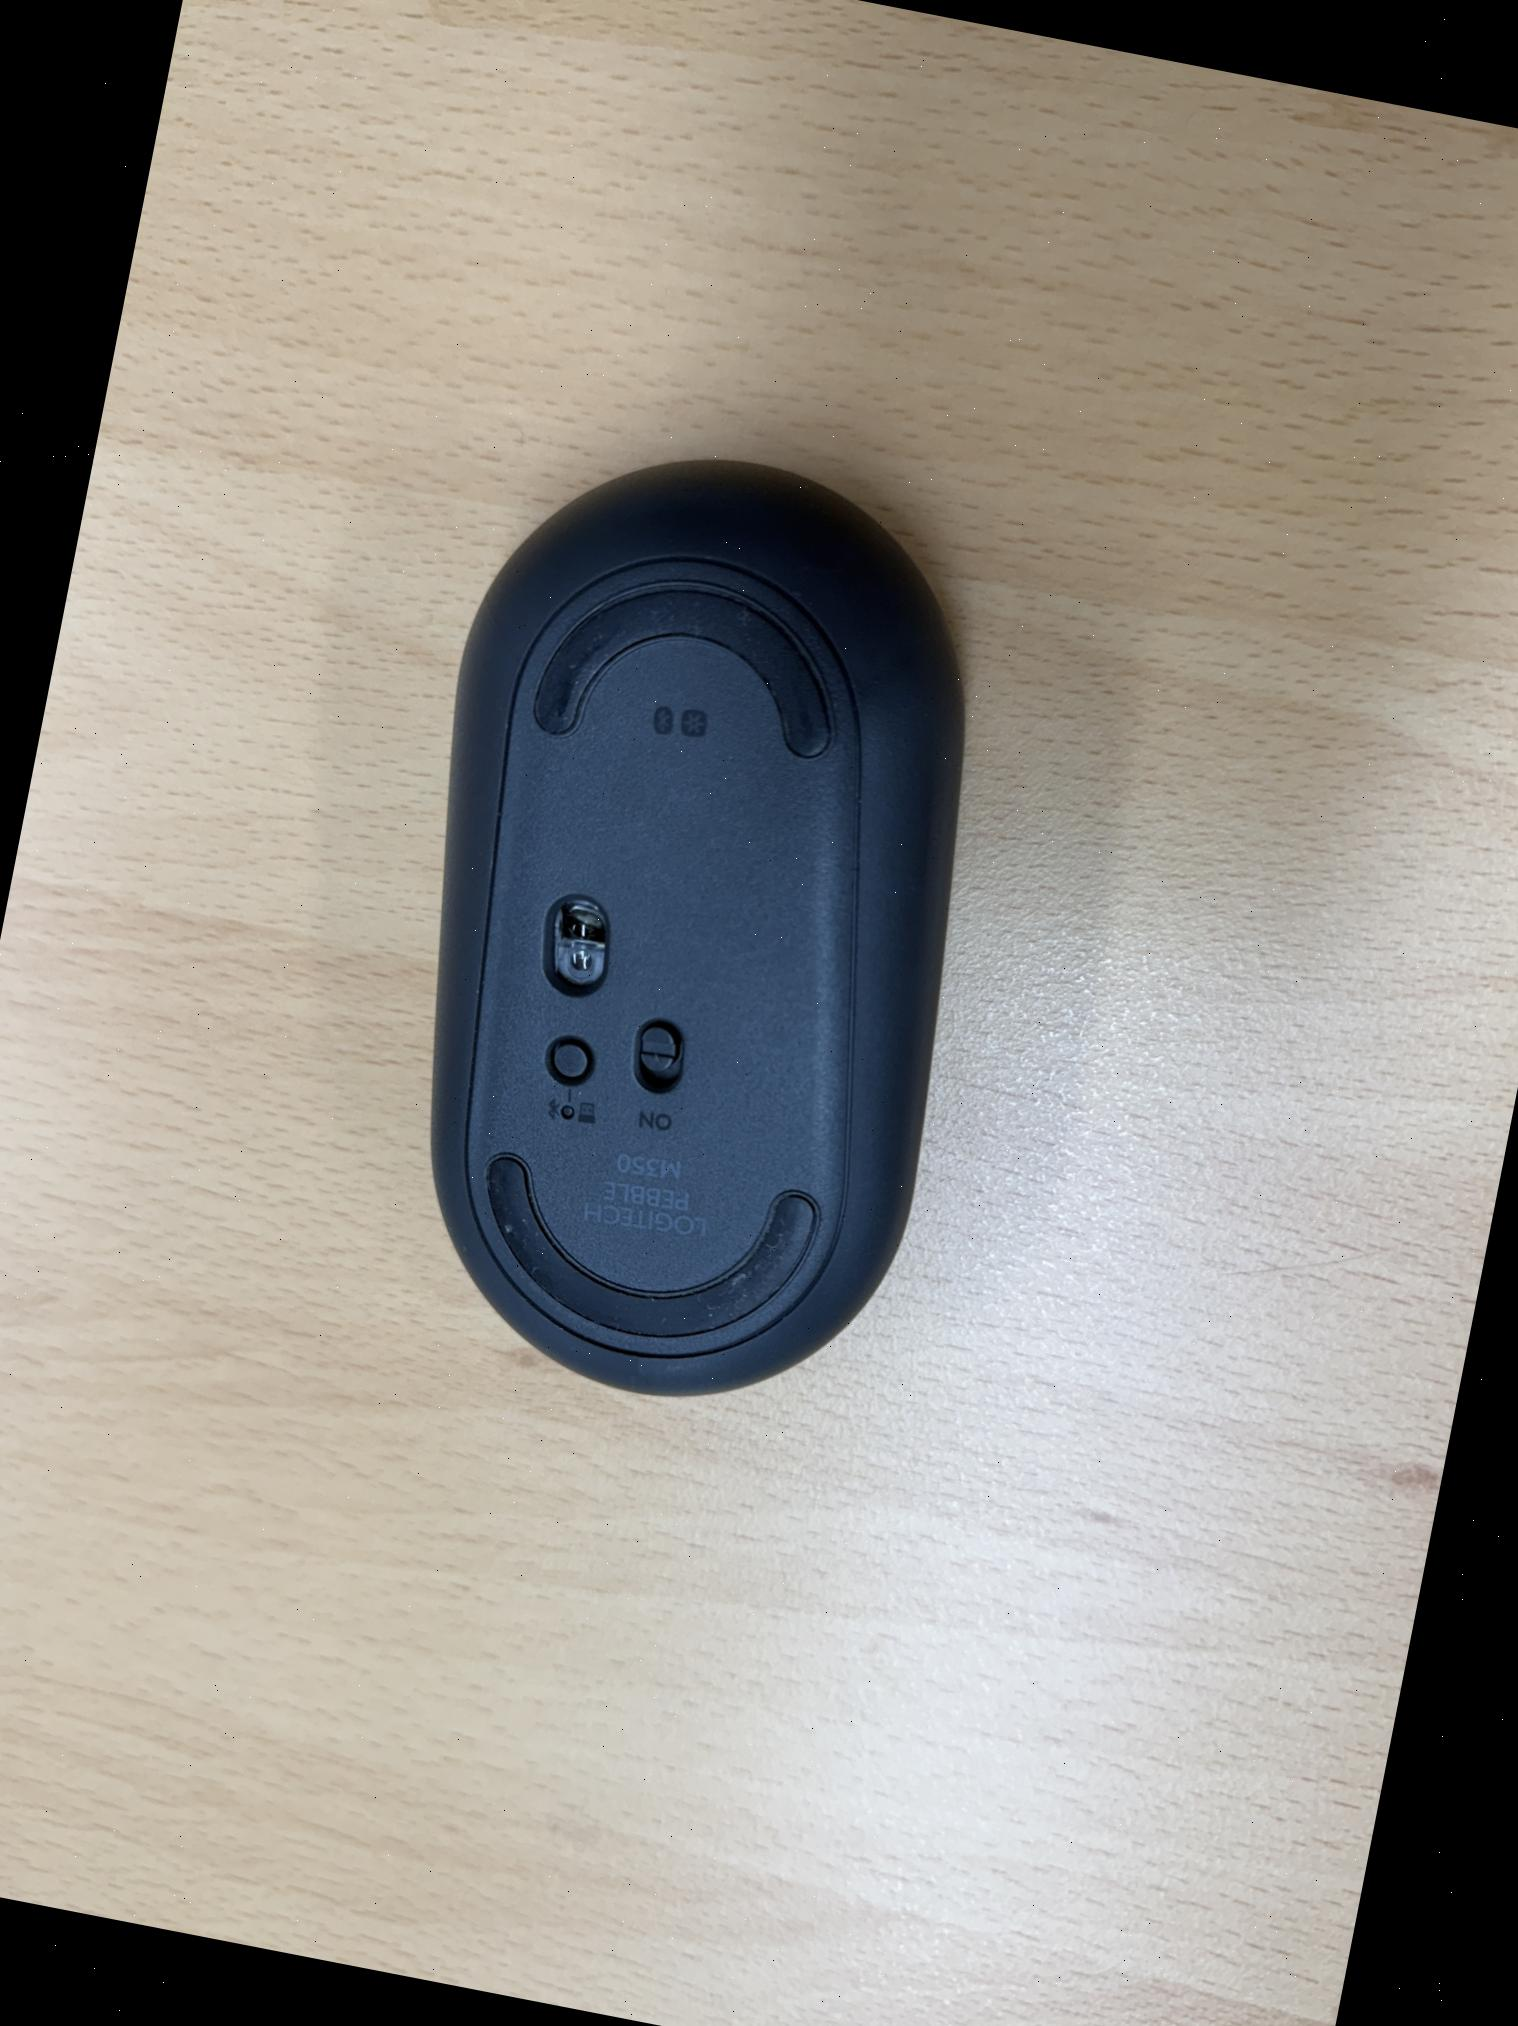back: (325, 413, 1046, 1441)
